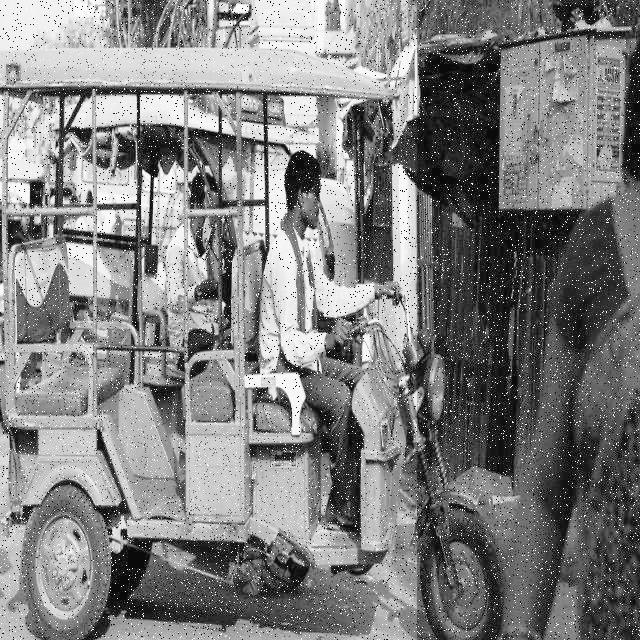Toto: (0, 35, 506, 640)
